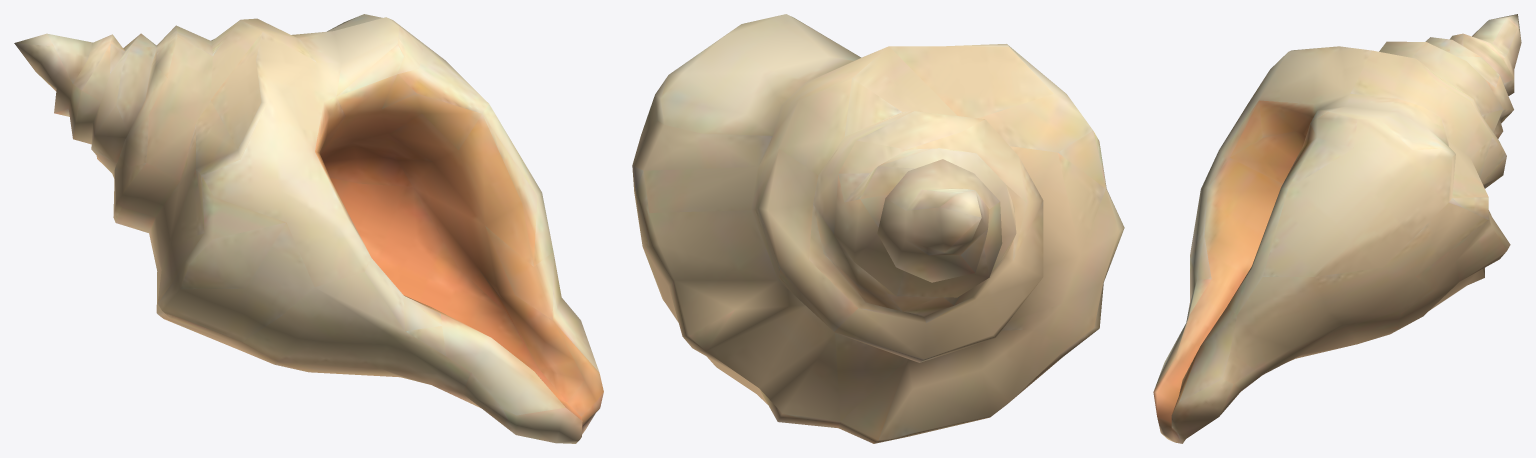
Rendered from coast-conch.glb.
3 renders of one model, left to right at view 1: azimuth 30°, elevation 25°; view 2: azimuth 150°, elevation 25°; view 3: azimuth 270°, elevation 25°, orthographic. The views are drawn at different scales.
Visible parts, largest first — view 1: coast-conch; view 2: coast-conch; view 3: coast-conch.
Part boxes in pixels (x1=…): coast-conch: x1=14, y1=14, x2=603, y2=443; coast-conch: x1=632, y1=14, x2=1124, y2=443; coast-conch: x1=1153, y1=14, x2=1521, y2=443.
Bounding box in the file's own units: 0.2035 × 0.184 × 0.1977.
1 material, 1 textured.
